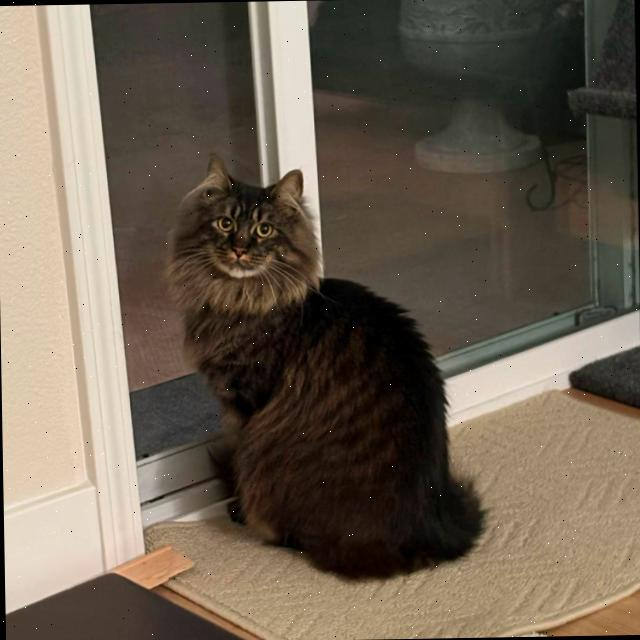maine_coon_cat: (156, 142, 334, 334)
